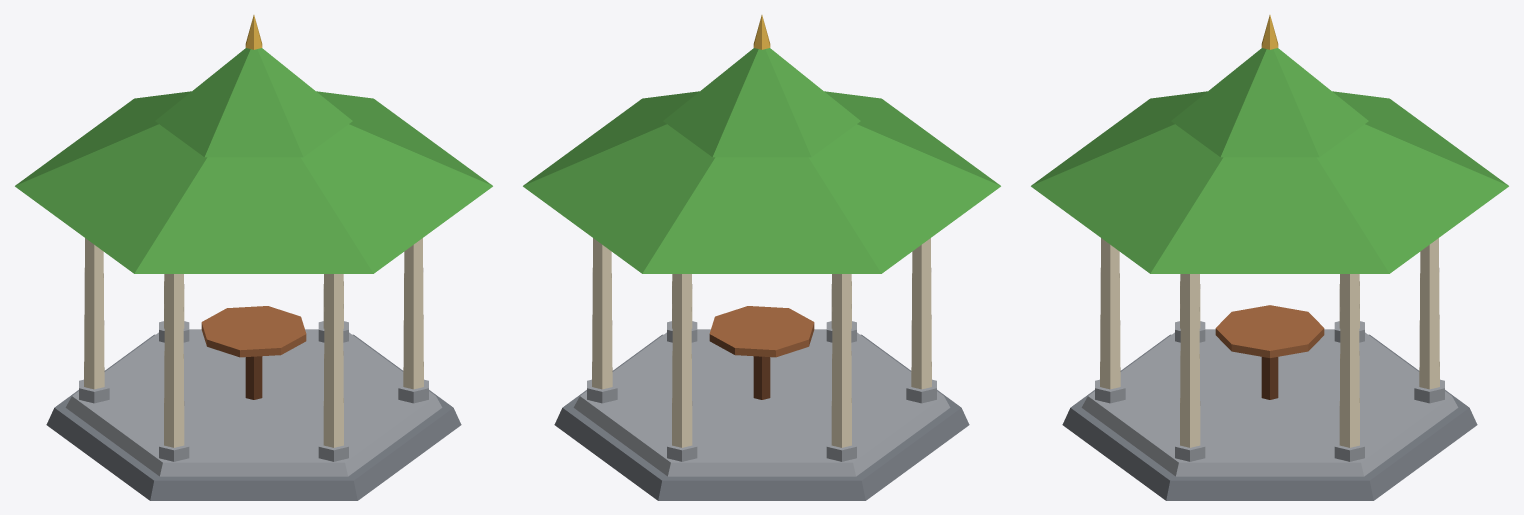
Rendered from a-pavilion.glb.
The picture shows the model from 3 angles, left to right: view 1: azimuth 30°, elevation 25°; view 2: azimuth 150°, elevation 25°; view 3: azimuth 270°, elevation 25°; orthographic projection.
Parts seen in each view (by area): view 1: a-pavilion; view 2: a-pavilion; view 3: a-pavilion.
Part boxes in pixels (x1,y1,x2,y2): a-pavilion: (15,15,492,500); a-pavilion: (523,15,1000,500); a-pavilion: (1031,15,1508,500).
Bounding box in the file's own units: 2.6 × 2.84 × 3.
